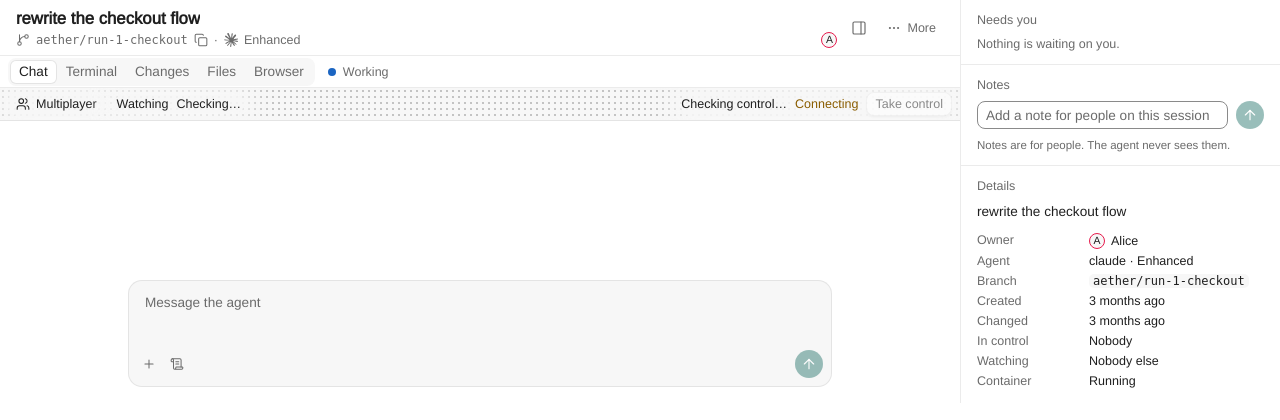
Test: run frame › opens an Enhanced run on Session and never attaches an agent terminal
Press the mouse on the 2nd tab named "Terminal" at (91, 72), box x1=58 y1=60 x2=125 y2=82
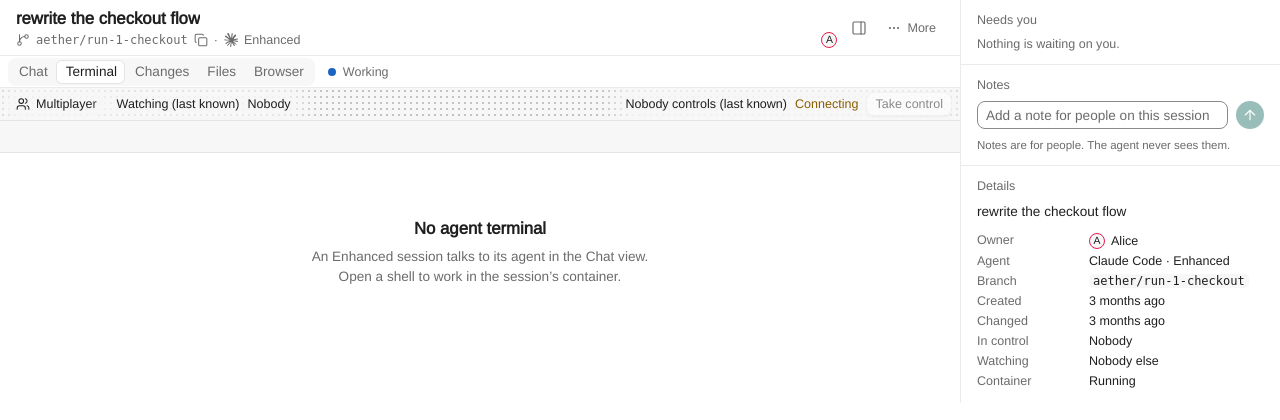
Check: the 5th heading "No agent terminal" is shown, box x1=414 y1=218 x2=546 y2=239
